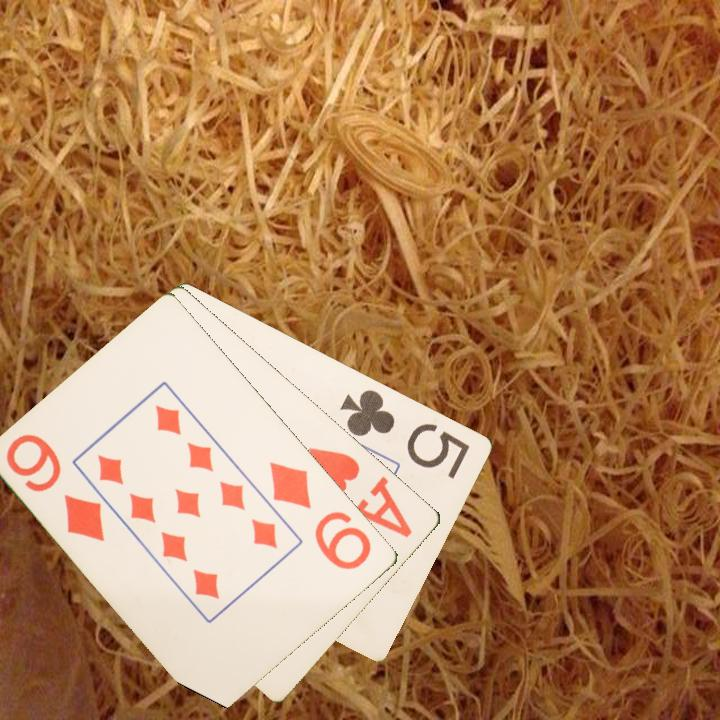5c: (336, 385, 473, 482)
9d: (266, 458, 375, 573), (2, 430, 109, 545)
Ah: (304, 443, 416, 541)
